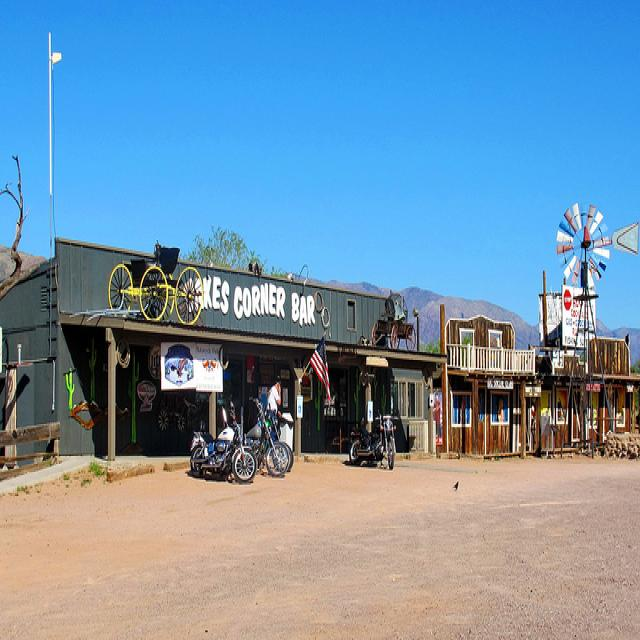motor: (190, 397, 292, 485), (349, 412, 395, 468)
